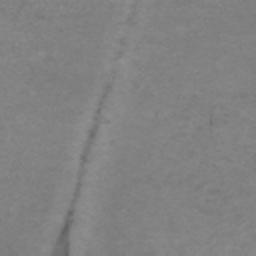Finishing roll printing: (52, 0, 141, 256)
